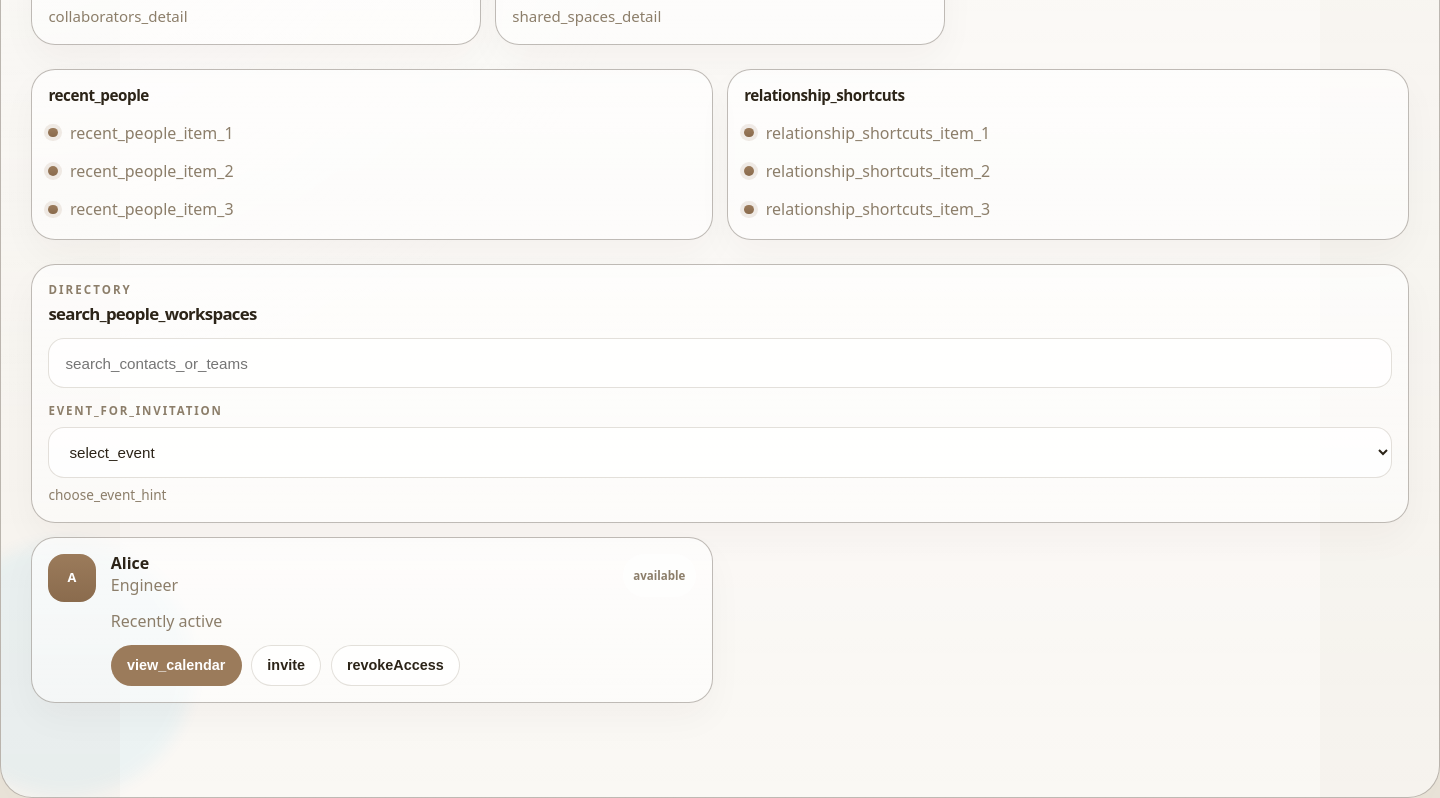
ContactsPage › revoke calendar access › revokes with the correct shareId and removes the button on success
The image size is (1440, 798).
(page scrolled)
Click the button "revokeAccess" at [395, 665], box left=331, top=645, right=460, bottom=686
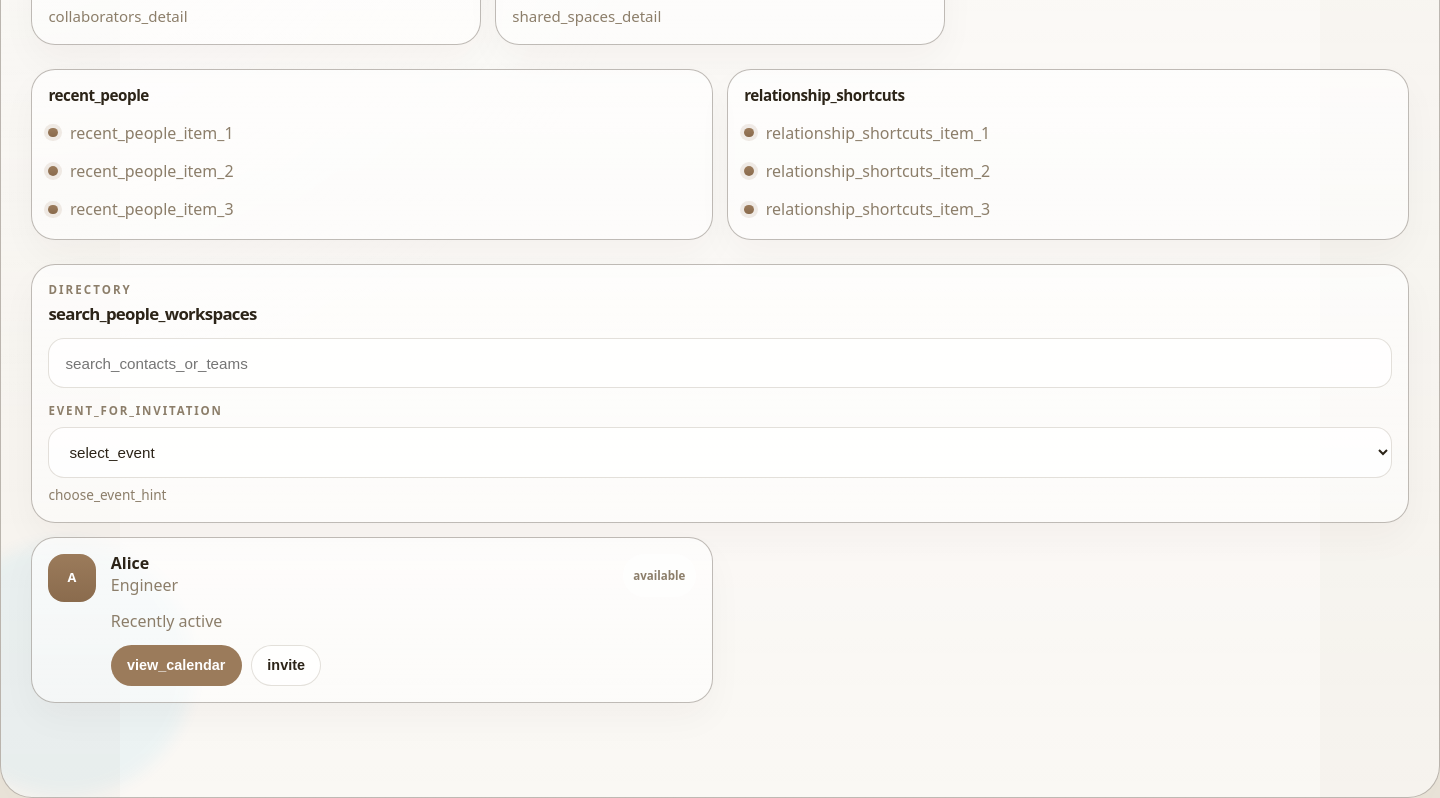
Expected: the button "revokeAccess" is gone
